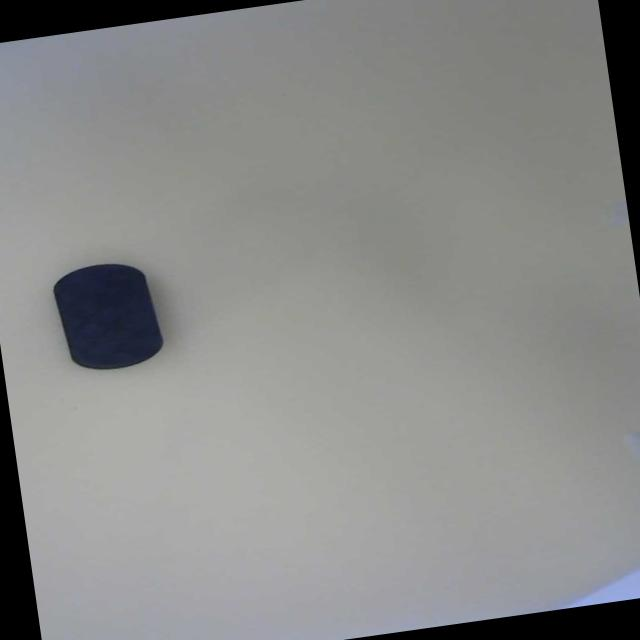oval: (48, 254, 171, 376)
